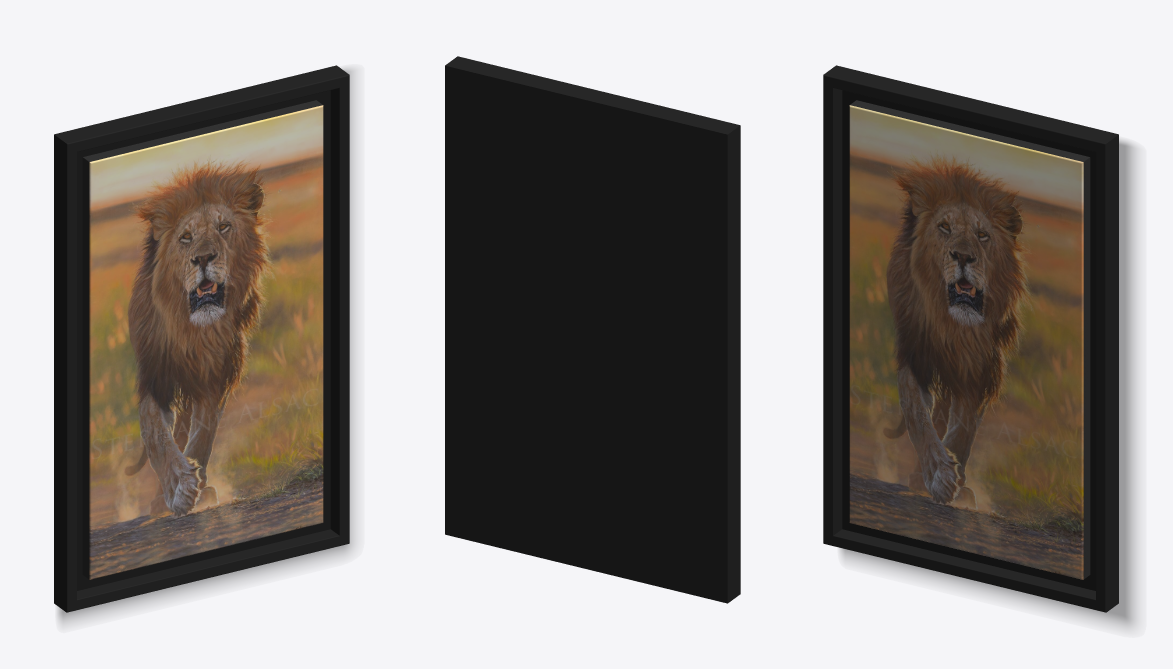
Rendered from grand-tableau-lion-classique-9ea5f970.glb.
3 renders of one model, left to right at view 1: azimuth 30°, elevation 25°; view 2: azimuth 150°, elevation 25°; view 3: azimuth 330°, elevation 25°, orthographic.
Parts seen in each view (by area): view 1: Painting; view 2: Painting; view 3: Painting.
Boxes of the visible parts, x1=… form: Painting: x1=54, y1=65, x2=352, y2=622; Painting: x1=445, y1=56, x2=740, y2=603; Painting: x1=823, y1=65, x2=1134, y2=626.
Bounding box in the file's own units: 0.636 × 0.926 × 0.04.
5 materials, 3 textured.
